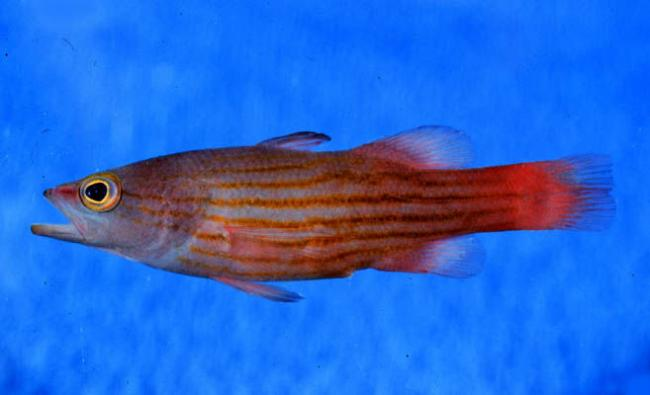fish: (29, 124, 619, 303)
